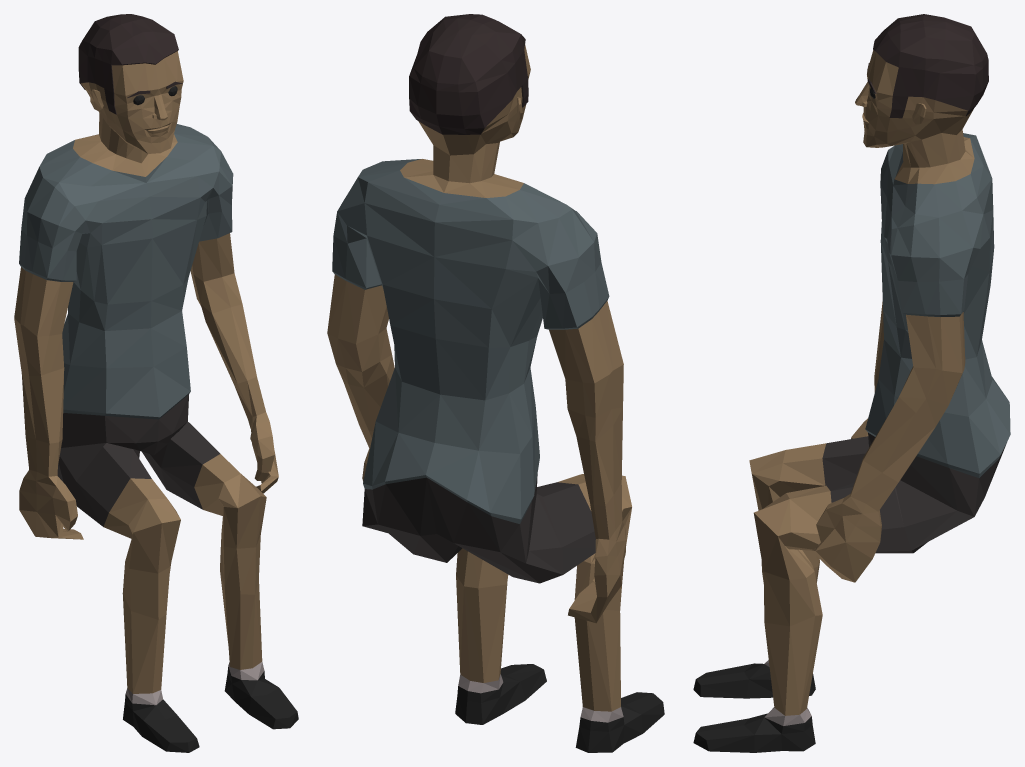
The model's file is man_seated.glb.
3 renders of one model, left to right at view 1: azimuth 30°, elevation 25°; view 2: azimuth 150°, elevation 25°; view 3: azimuth 270°, elevation 25°, orthographic. The views are drawn at different scales.
Size of the model in its own units: 1.47 by 4.01 by 1.66.
